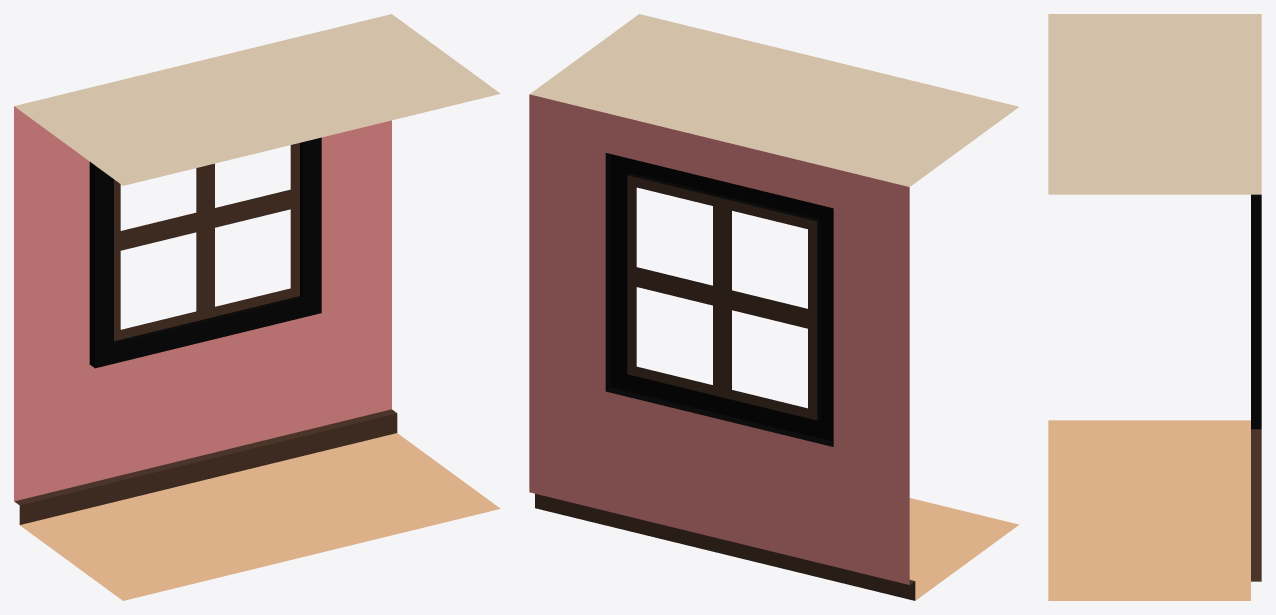
File: Couloir_fenetre_2_1x2.fbx
3 renders of one model, left to right at view 1: azimuth 30°, elevation 25°; view 2: azimuth 150°, elevation 25°; view 3: azimuth 270°, elevation 25°, orthographic. The views are drawn at different scales.
Parts seen in each view (by area): view 1: Couloir_fenetre_2_1x2; view 2: Couloir_fenetre_2_1x2; view 3: Couloir_fenetre_2_1x2.
Boxes of the visible parts, x1,y1,x2,y2 form: Couloir_fenetre_2_1x2: (14,14,500,600); Couloir_fenetre_2_1x2: (529,14,1018,600); Couloir_fenetre_2_1x2: (1048,14,1261,600).
Bounding box in the file's own units: 2 × 2.1 × 1.
